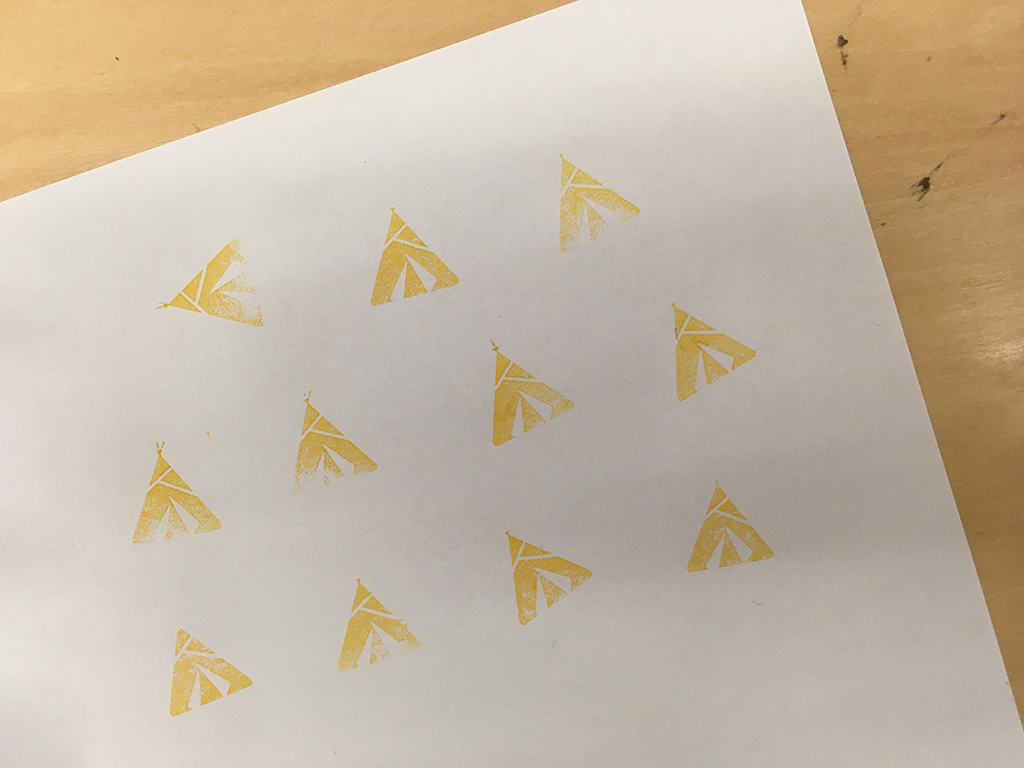tent: (118, 430, 230, 552), (150, 229, 271, 340), (276, 385, 383, 506), (659, 291, 767, 408), (480, 329, 580, 452), (322, 572, 435, 677), (363, 202, 469, 311), (674, 469, 781, 575), (550, 149, 652, 259), (498, 522, 598, 632), (158, 621, 260, 727)
